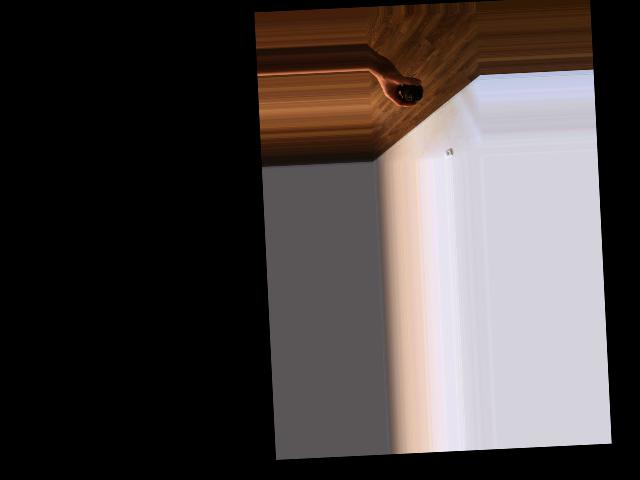beet: (400, 73, 424, 103)
